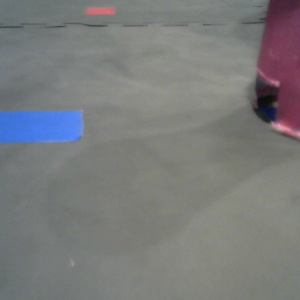Right: (256, 1, 300, 135)
